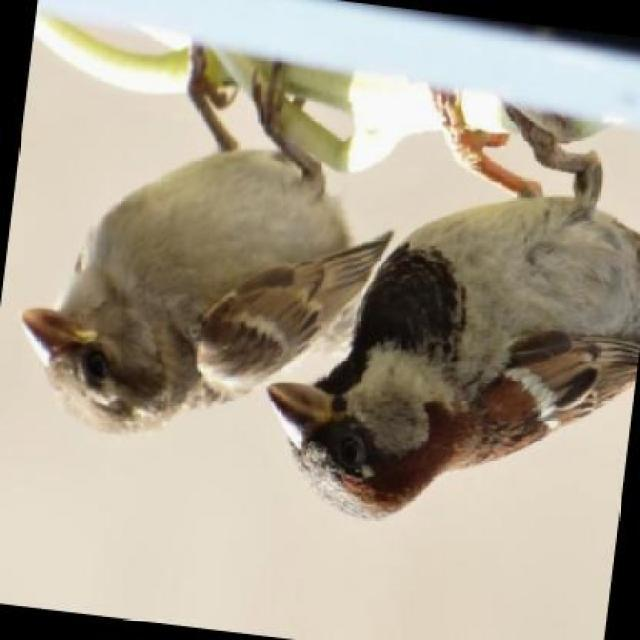Bird: (264, 88, 640, 505), (24, 29, 330, 420)
